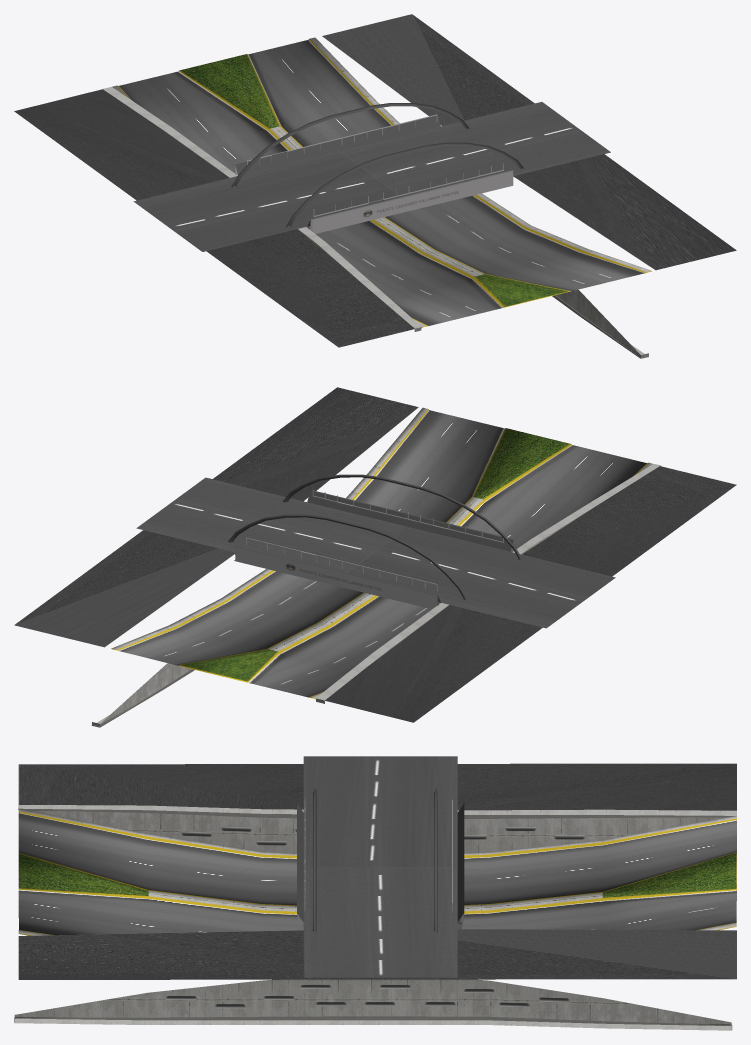
The model's file is PuenteVillaran.FBX.
The picture shows the model from 3 angles, top to bottom: view 1: azimuth 30°, elevation 25°; view 2: azimuth 150°, elevation 25°; view 3: azimuth 270°, elevation 25°; orthographic projection. The views are drawn at different scales.
Visible parts, largest first — view 1: Object032, Object072, Object025, Plane023, Box195, Box196, Object073, Object026; view 2: Object032, Object072, Object025, Plane022, Box195, Box196, Object073, Object026; view 3: Object032, Object072, Object025, Box196, Box195, Object026, Object073.
Boxes of the visible parts, x1,y1,x2,y2 form: Object032: [14, 14, 736, 347]; Object072: [112, 37, 651, 327]; Object025: [133, 102, 610, 251]; Plane023: [312, 171, 513, 233]; Box195: [102, 87, 421, 331]; Box196: [552, 289, 648, 358]; Object073: [286, 142, 524, 230]; Object026: [231, 103, 469, 187]; Object032: [14, 387, 736, 722]; Object072: [111, 407, 652, 698]; Object025: [136, 477, 615, 628]; Plane022: [235, 546, 436, 608]; Box195: [315, 464, 660, 703]; Box196: [91, 663, 194, 727]; Object073: [282, 474, 522, 559]; Object026: [228, 514, 467, 599]; Object032: [18, 763, 736, 979]; Object072: [18, 808, 736, 935]; Object025: [297, 756, 464, 977]; Box196: [14, 979, 732, 1030]; Box195: [18, 805, 736, 853]; Object026: [433, 788, 437, 933]; Object073: [312, 788, 316, 933].
Bounding box in the file's own units: 3027 × 961 × 4177.
